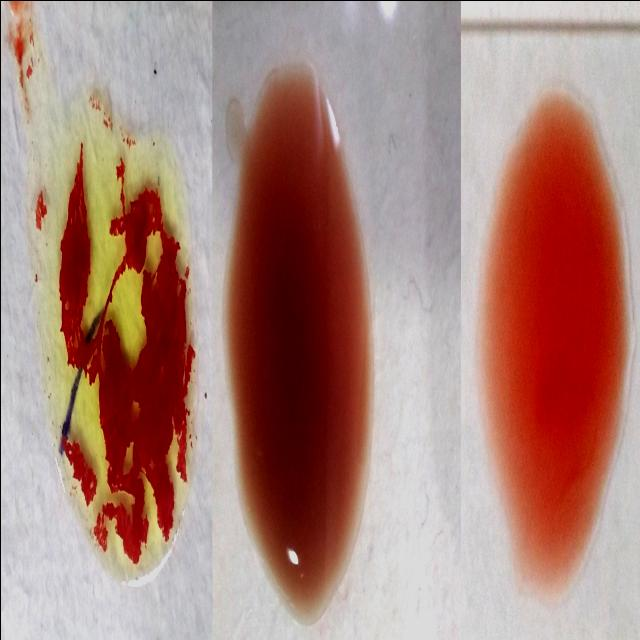B: (48, 105, 188, 584)
